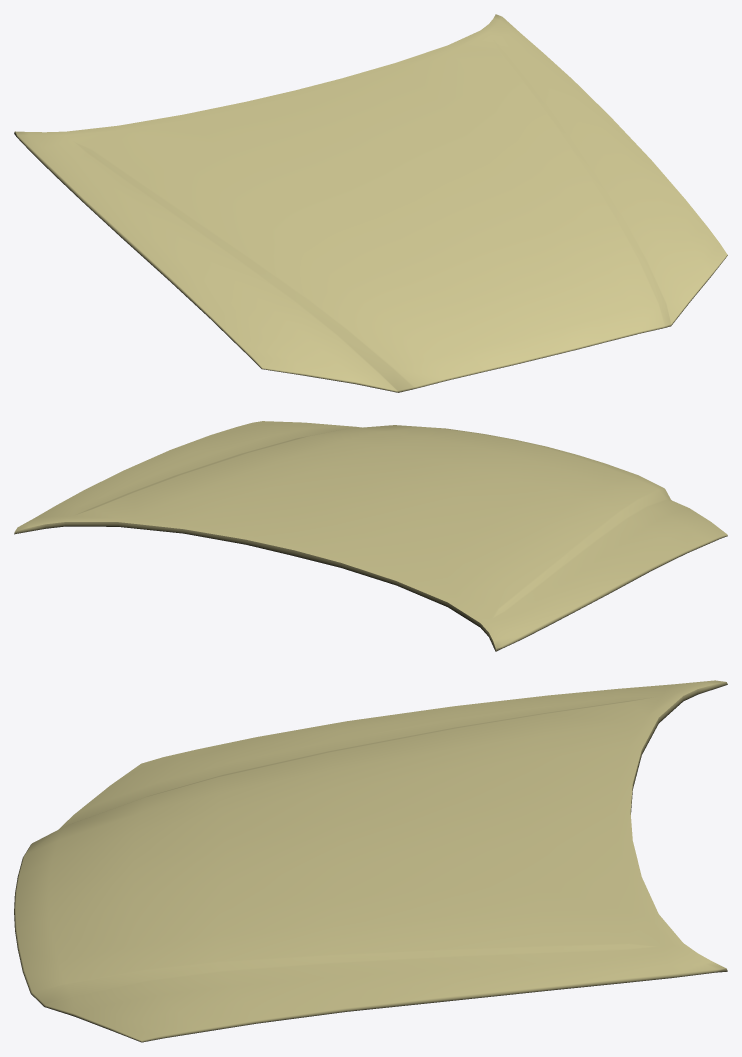
Rendered from R34_Bonnet01_Duco.fbx.
The picture shows the model from 3 angles, top to bottom: view 1: azimuth 30°, elevation 25°; view 2: azimuth 150°, elevation 25°; view 3: azimuth 270°, elevation 25°; orthographic projection. The views are drawn at different scales.
Visible parts, largest first — view 1: R34_Bonnet01_Duco; view 2: R34_Bonnet01_Duco; view 3: R34_Bonnet01_Duco.
Part boxes in pixels (x1,y1,x2,y2): R34_Bonnet01_Duco: (14,14,727,392); R34_Bonnet01_Duco: (14,421,727,651); R34_Bonnet01_Duco: (14,680,727,1042).
Size of the model in its own units: 145 by 26.24 by 149.
